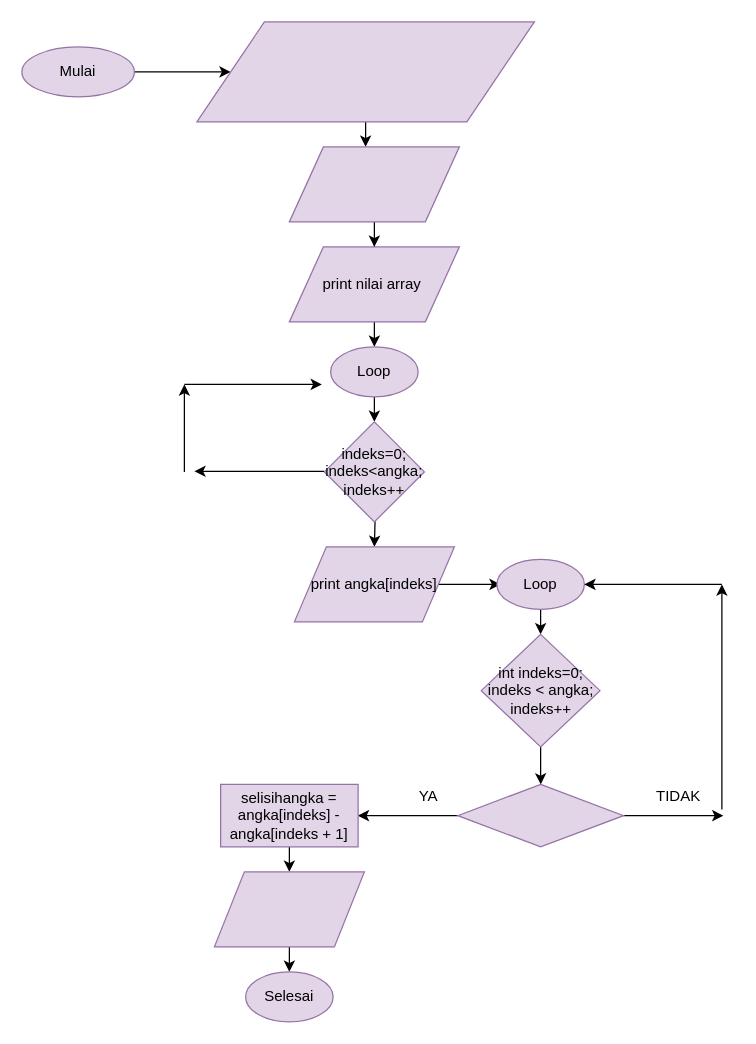
The diagram is 756 pixels wide and 1044 high, and some of its shapes have lost their labels. Here are the shapes that lost their labels. From the top down, the centre of each, then its label:
the point at 365,71: int[] angka = (82,12,41,38,19,26,9,48,20,55,8,32,3)
the point at 373,184: int total = 0, indeks
the point at 540,815: indeks == angka - 1
the point at 288,909: print selisih angka dengan angka lainnya
